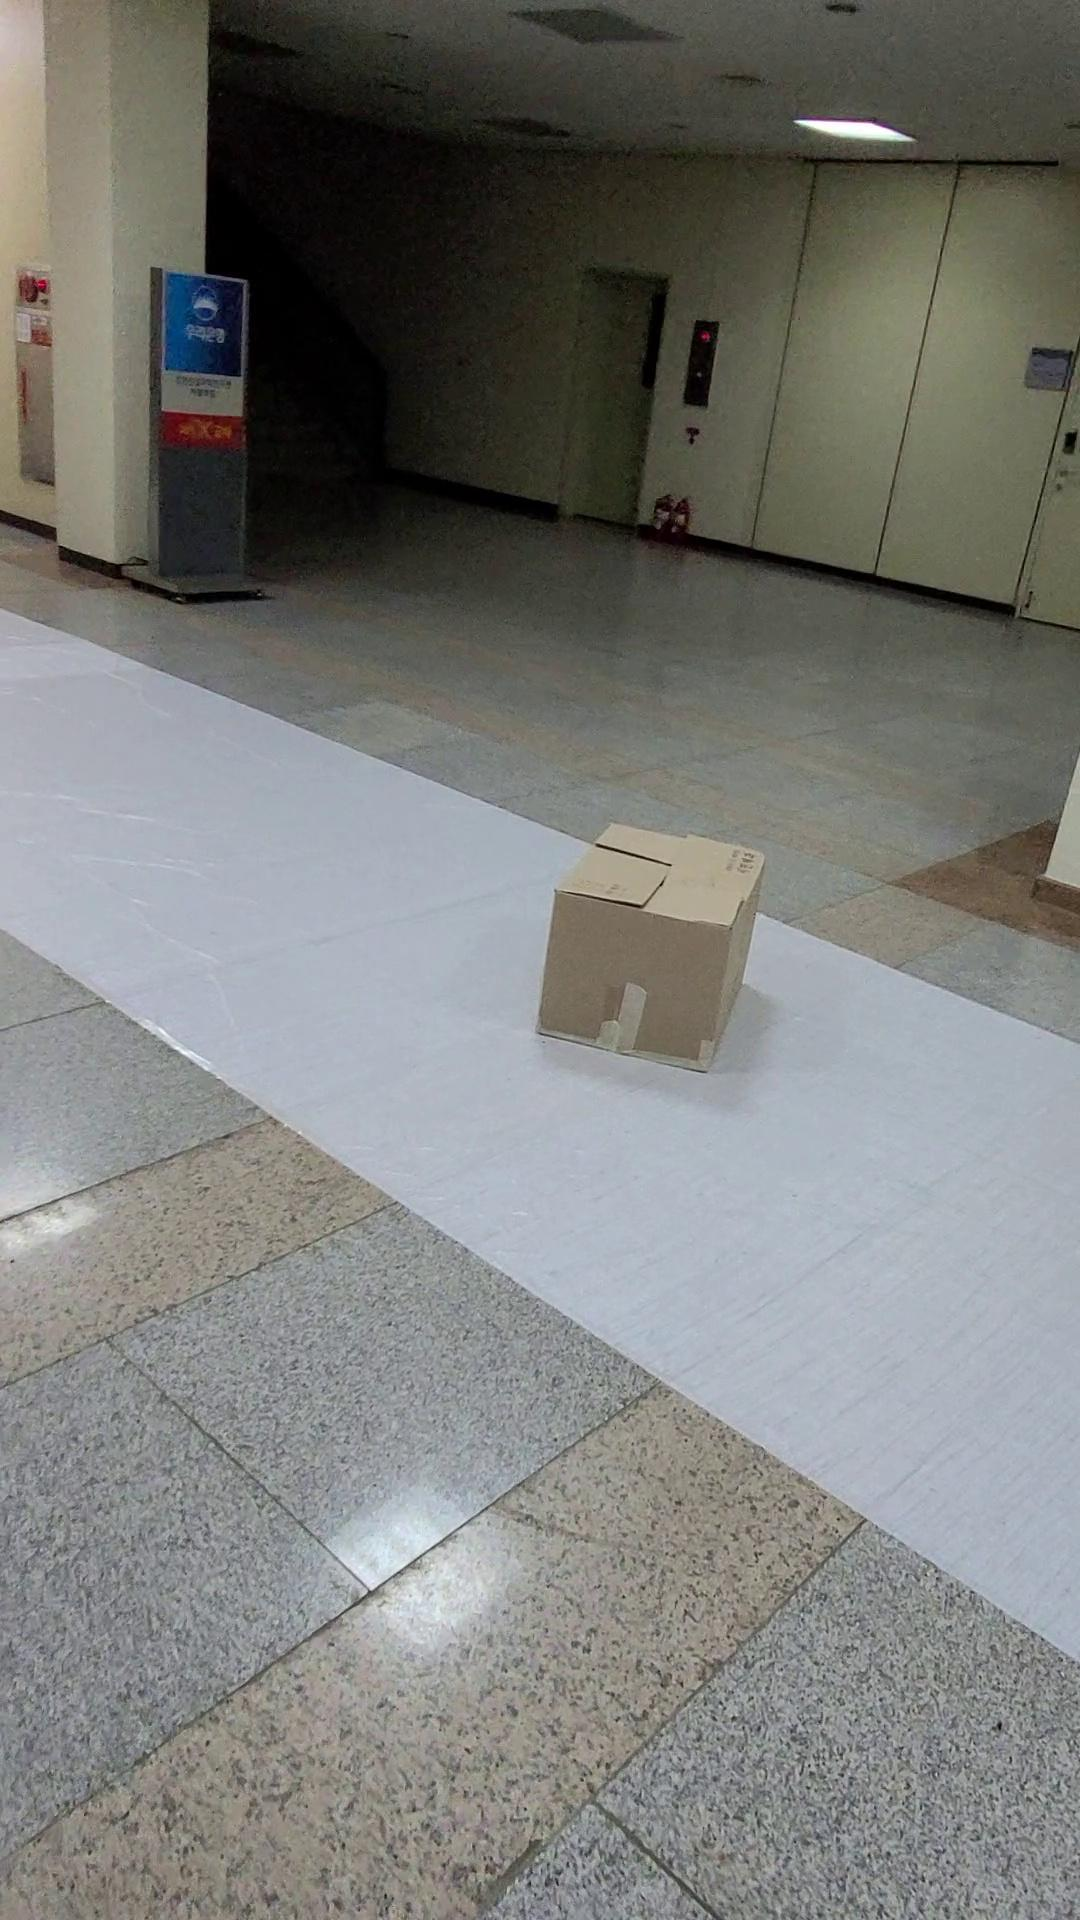Box: (518, 823, 779, 1085)
